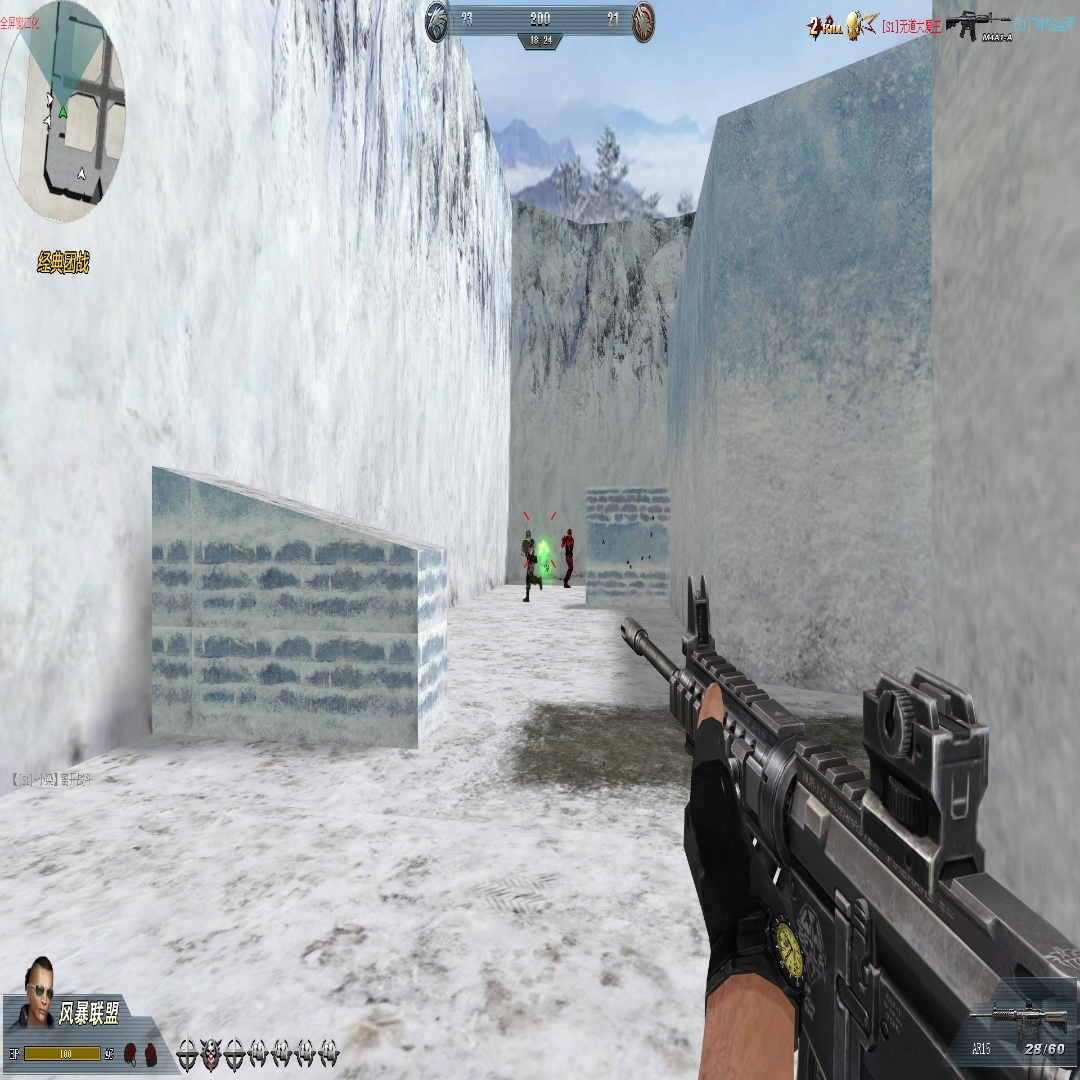ct: (521, 530, 540, 601), (561, 526, 575, 587)
head: (525, 530, 531, 543)
